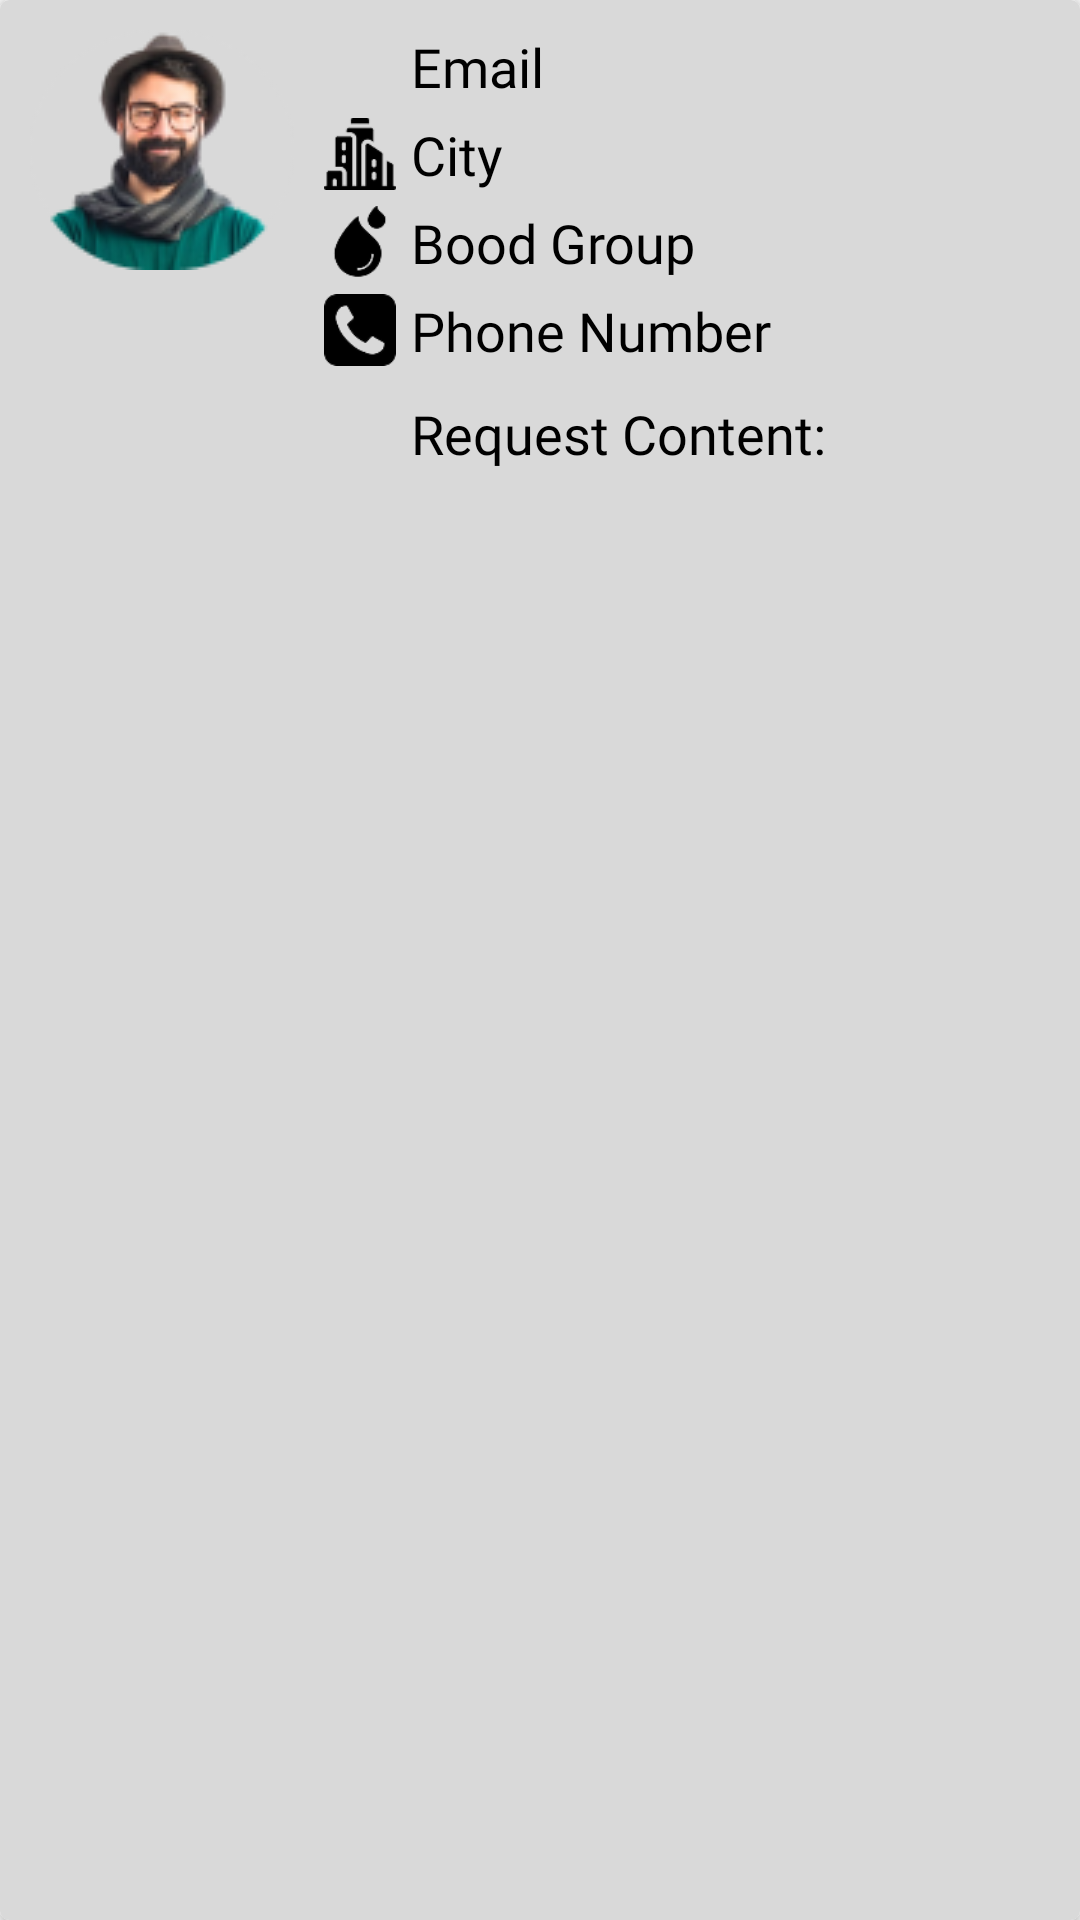

Icon bounding boxes for this 1080w x 1920h phone screenshot, format (x1, y1, x2, y2):
blood: (334, 206, 386, 277)
profil: (50, 34, 266, 270)
